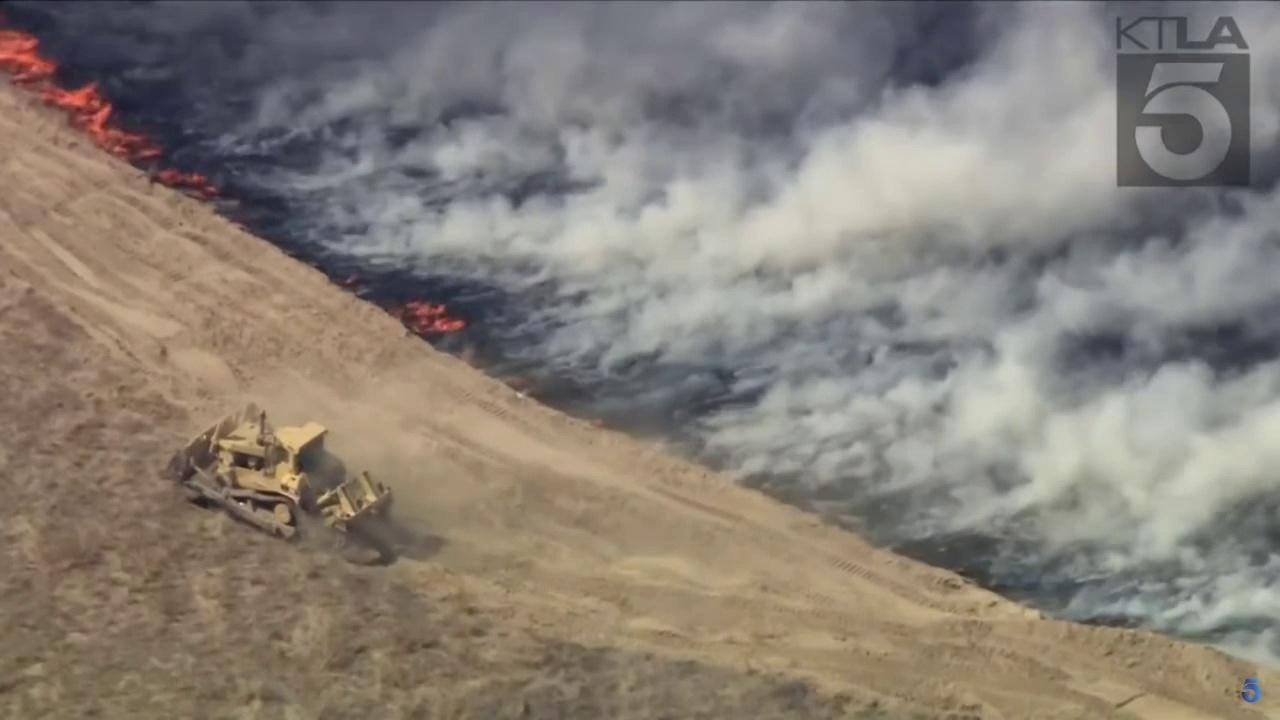fire: (0, 28, 166, 163), (384, 298, 468, 339), (153, 169, 219, 205)
smoke: (0, 0, 1280, 672)
